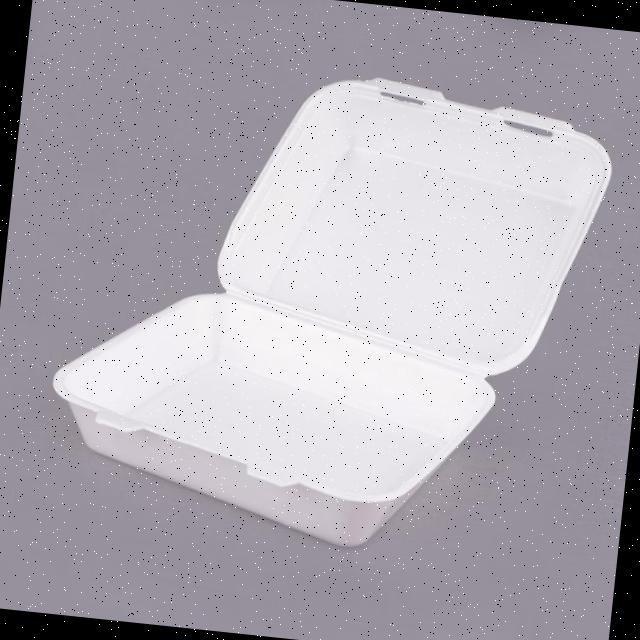styrofoam: (37, 44, 620, 572)
